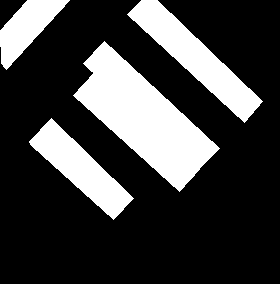parkingspot: (83, 41, 219, 170), (127, 0, 262, 122), (73, 72, 199, 191), (29, 118, 133, 219), (0, 0, 69, 69)
